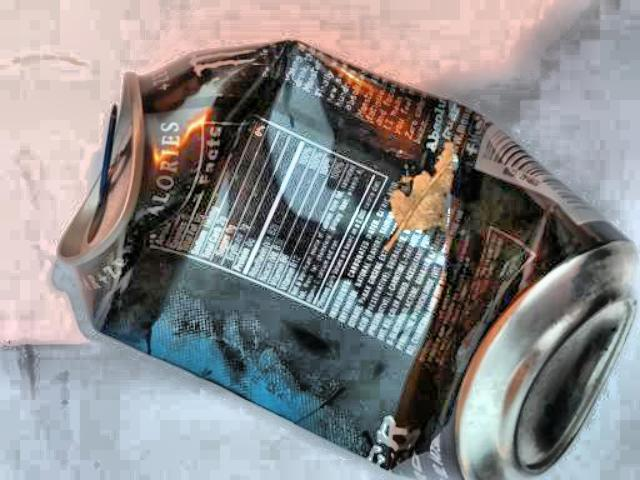Bottles: (27, 7, 640, 480)
